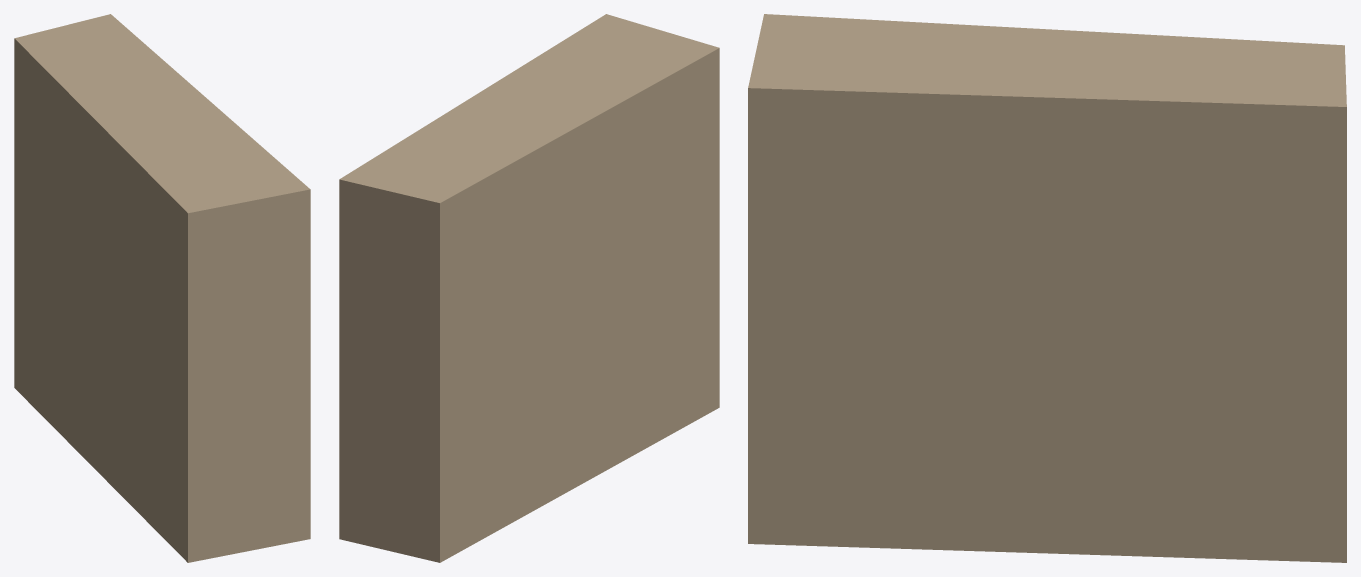
File: bld_98821438.dae
The picture shows the model from 3 angles, left to right: view 1: azimuth 30°, elevation 25°; view 2: azimuth 150°, elevation 25°; view 3: azimuth 270°, elevation 25°; orthographic projection. The views are drawn at different scales.
Visible parts, largest first — view 1: TKO The Spa; view 2: TKO The Spa; view 3: TKO The Spa.
Boxes of the visible parts, box(x1,y1,x2,y2) form: TKO The Spa: box(14, 14, 310, 562); TKO The Spa: box(339, 14, 719, 562); TKO The Spa: box(748, 14, 1346, 562).
Bounding box in the file's own units: 3.5 × 9.52 × 8.
